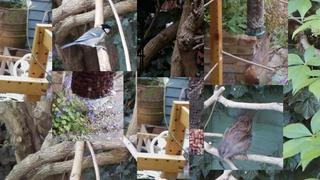dunnock: (217, 109, 259, 163)
great tit: (60, 24, 113, 51)
